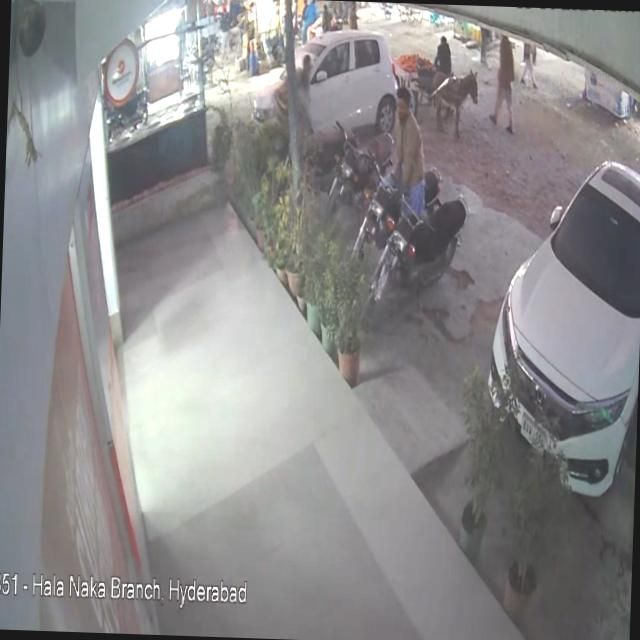Car: (481, 109, 640, 511), (230, 12, 404, 142)
Motorcycle: (358, 208, 478, 329), (341, 156, 449, 266), (329, 118, 400, 216)
